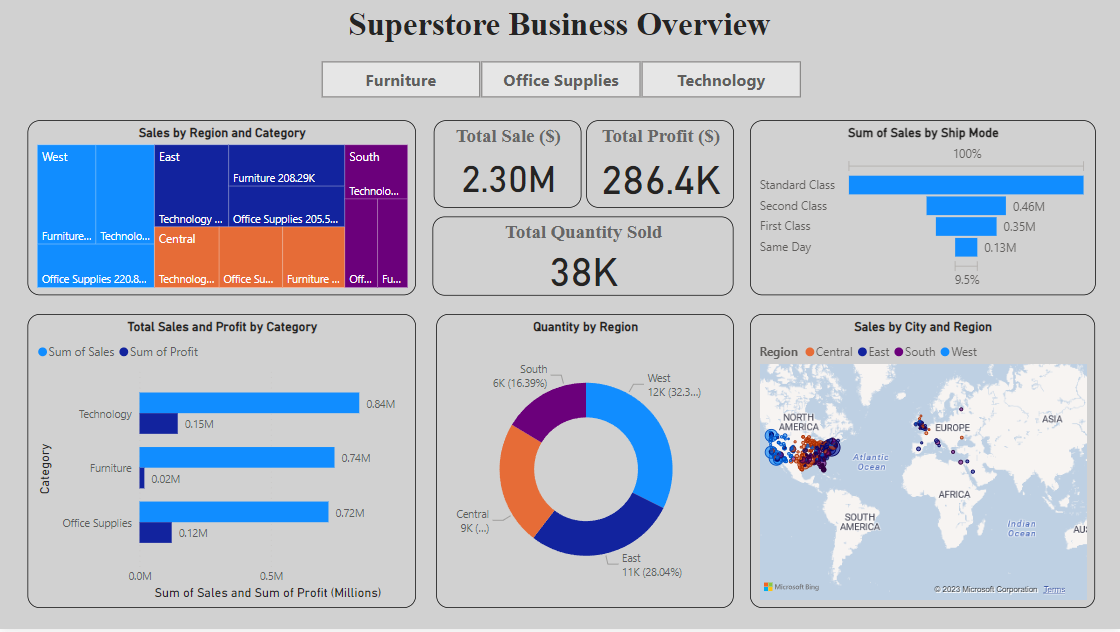

The page's visual inventory and layout, read from the dashboard file:
{"tool":"powerbi","page":{"name":"Business Overview","canvas":[1280,720],"ordinal":0},"visuals":[{"type":"clusteredBarChart","title":"Total Sales and Profit by Category","fields":{"Category":["SampleSuperstore.Category"],"Y":["Sum(SampleSuperstore.Sales)","Sum(SampleSuperstore.Profit)"]},"box":[31.2,360,443.8,336.2],"z":0},{"type":"card","title":"Total Sale ($)","fields":{"Values":["Sum(SampleSuperstore.Sales)"]},"box":[495,138.8,168.8,100],"z":1000},{"type":"card","title":"Total Profit ($)","fields":{"Values":["Sum(SampleSuperstore.Profit)"]},"box":[670,138.8,168.8,100],"z":2000},{"type":"textbox","box":[345,1.2,590,57.5],"z":3000},{"type":"card","title":"Total Quantity Sold","fields":{"Values":["Sum(SampleSuperstore.Quantity)"]},"box":[494.4,248.8,343.8,90],"z":4000},{"type":"map","title":"Sales by City and Region","fields":{"Series":["SampleSuperstore.Region"],"Size":["Sum(SampleSuperstore.Sales)"],"Category":["SampleSuperstore.City","SampleSuperstore.Country"]},"box":[857.1,360,394.3,335.7],"z":5000},{"type":"treemap","title":"Sales by Region and Category","fields":{"Group":["SampleSuperstore.Region"],"Details":["SampleSuperstore.Category"],"Values":["Sum(SampleSuperstore.Sales)"]},"box":[31.2,138.8,443.8,200],"z":6000},{"type":"funnel","fields":{"Category":["SampleSuperstore.Ship Mode","SampleSuperstore.Category"],"Y":["Sum(SampleSuperstore.Sales)"]},"box":[857.5,138.8,395,200],"z":7000},{"type":"slicer","fields":{"Values":["SampleSuperstore.Category"]},"box":[341.2,63.8,597.5,55],"z":8000},{"type":"donutChart","title":"Quantity by Category","fields":{"Y":["Sum(SampleSuperstore.Quantity)"],"Category":["SampleSuperstore.Region"]},"box":[498.6,360,340,335.7],"z":9000}]}

Visuals, with their boxes in screenshot pixels (x1, y1, x2, y2), scaled from the page's 1280x720 canvas onto the 1120x632 screenshot:
"Total Sales and Profit by Category" clusteredBarChart: detection(27, 316, 416, 611)
"Total Sale ($)" card: detection(433, 122, 581, 210)
"Total Profit ($)" card: detection(586, 122, 734, 210)
textbox: detection(302, 1, 818, 52)
"Total Quantity Sold" card: detection(433, 218, 733, 297)
"Sales by City and Region" map: detection(750, 316, 1095, 611)
"Sales by Region and Category" treemap: detection(27, 122, 416, 297)
funnel - SampleSuperstore.Ship Mode x SampleSuperstore.Category: detection(750, 122, 1096, 297)
slicer - SampleSuperstore.Category: detection(299, 56, 821, 104)
"Quantity by Category" donutChart: detection(436, 316, 734, 611)
